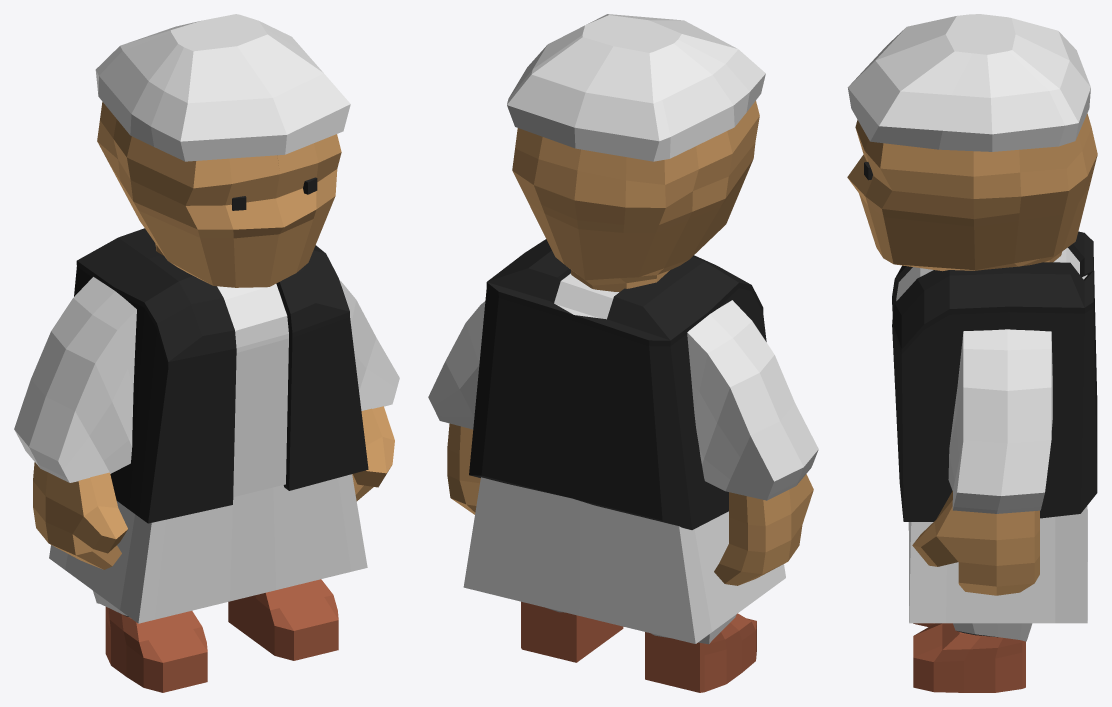
The picture shows the model from 3 angles, left to right: view 1: azimuth 30°, elevation 25°; view 2: azimuth 150°, elevation 25°; view 3: azimuth 270°, elevation 25°; orthographic projection.
Parts seen in each view (by area): view 1: AK27.000; view 2: AK27.000; view 3: AK27.000.
Boxes of the visible parts, x1,y1,x2,y2 form: AK27.000: [14, 14, 399, 692]; AK27.000: [428, 14, 818, 692]; AK27.000: [847, 14, 1097, 692].
Bounding box in the file's own units: 48.36 × 79.51 × 29.52.
